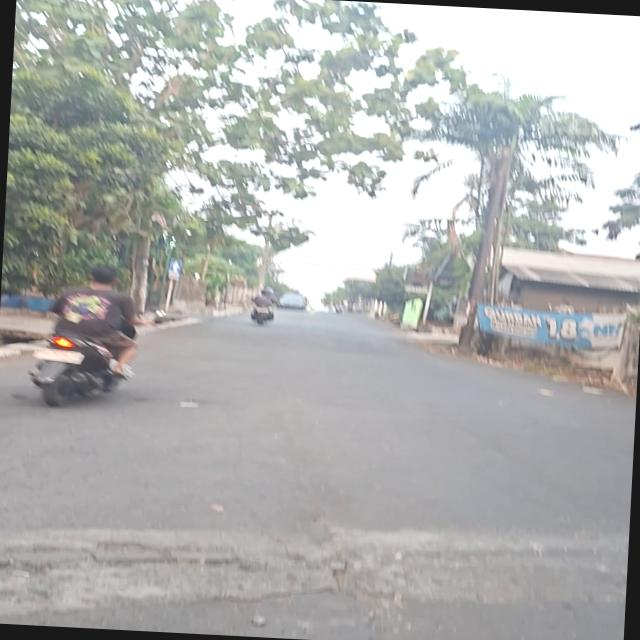WithHelmet: (251, 285, 282, 317)
WithoutHelmet: (28, 260, 156, 403)
